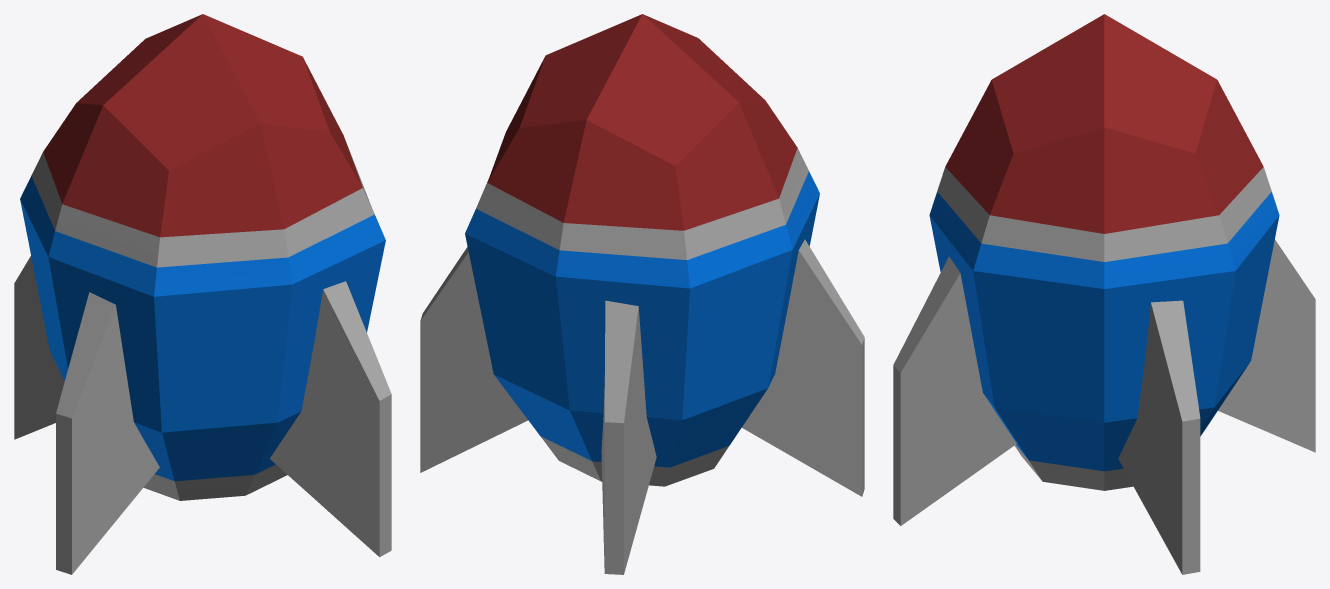
File: nuke (3).fbx
The picture shows the model from 3 angles, left to right: view 1: azimuth 30°, elevation 25°; view 2: azimuth 150°, elevation 25°; view 3: azimuth 270°, elevation 25°; orthographic projection. The views are drawn at different scales.
Parts seen in each view (by area): view 1: NUKE; view 2: NUKE; view 3: NUKE.
Boxes of the visible parts, x1,y1,x2,y2 form: NUKE: (14,14,391,574); NUKE: (420,14,864,574); NUKE: (893,14,1315,574).
Size of the model in its own units: 0.6697 by 0.8248 by 0.6697.
